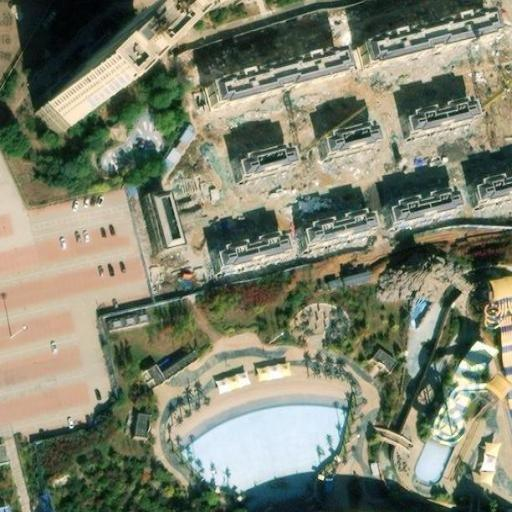building: (36, 16, 157, 134), (212, 43, 354, 105), (371, 3, 503, 63), (394, 189, 467, 225), (406, 103, 478, 139), (301, 214, 375, 249), (216, 237, 289, 272), (154, 120, 197, 173), (138, 191, 173, 253), (322, 130, 379, 158), (237, 152, 293, 180), (482, 275, 512, 325), (103, 307, 150, 332), (211, 367, 251, 396), (476, 175, 512, 204), (366, 342, 398, 372), (254, 359, 292, 382), (474, 437, 497, 472), (497, 326, 512, 372), (130, 409, 152, 440)
